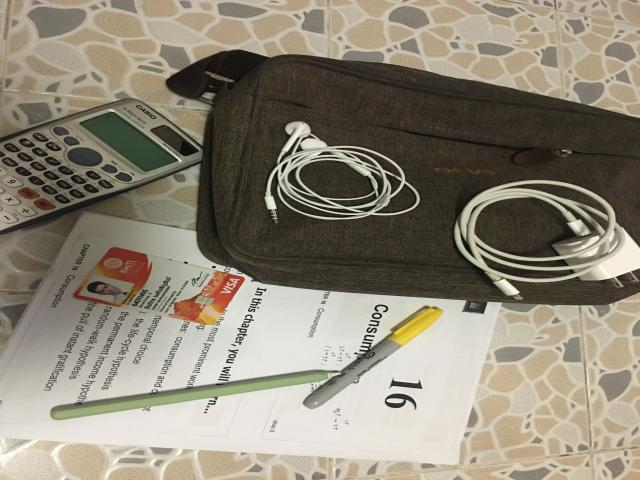Pen: (303, 308, 443, 409)
paper: (0, 213, 500, 464)
wire: (453, 180, 640, 299), (265, 121, 420, 223)
